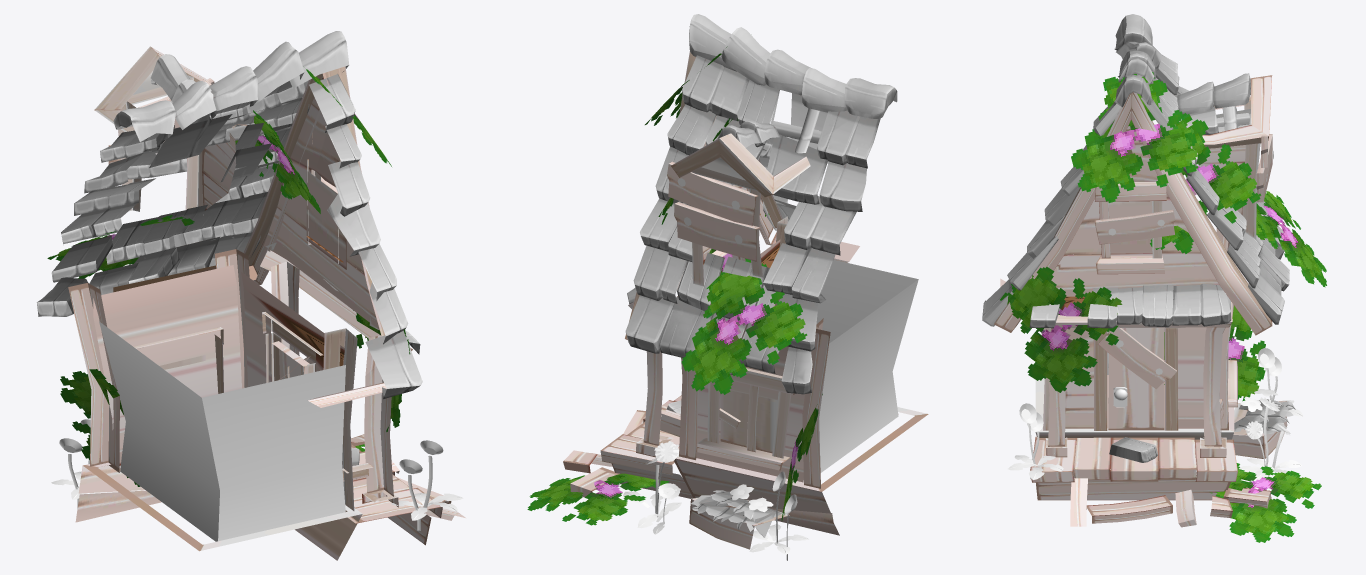
The model's file is HouseVillage1Broken.fbx.
3 renders of one model, left to right at view 1: azimuth 30°, elevation 25°; view 2: azimuth 150°, elevation 25°; view 3: azimuth 270°, elevation 25°, orthographic. The views are drawn at different scales.
Parts seen in each view (by area): view 1: GenericFarmerHouse_RunDown, FarmerHouseSideRoof_worndown001, FarmerHouseRoof_worndown001, RoofWindow_worndown001, foliage1 (4), foliage1 (3), FarmerHouseSmallRoofs004, foliage1 (2), FarmerHouseDoor_worndown001, FarmerHouseStairs_worndown001, foliage1 (6); view 2: GenericFarmerHouse_RunDown, FarmerHouseSideRoof_worndown001, RoofWindow_worndown001, foliage1 (2), FarmerHouseRoof_worndown001, foliage1 (7), FarmerHouseStairs_worndown001, FarmerHouseSmallRoofs004, foliage1 (3); view 3: GenericFarmerHouse_RunDown, FarmerHouseSideRoof_worndown001, FarmerHouseSmallRoofs004, foliage1 (5), foliage1 (6), RoofWindow_worndown001, FarmerHouseStairs_worndown001, FarmerHouseDoor_worndown001, foliage1 (7), foliage1 (4), FarmerHouseRoof_worndown001, foliage1 (2) (+1 smaller).
Boxes of the visible parts, left/top/right/bottom form: GenericFarmerHouse_RunDown: left=68, top=66, right=442, bottom=560; FarmerHouseSideRoof_worndown001: left=36, top=74, right=422, bottom=399; FarmerHouseRoof_worndown001: left=113, top=31, right=349, bottom=141; RoofWindow_worndown001: left=94, top=46, right=247, bottom=215; foliage1 (4): left=235, top=110, right=320, bottom=213; foliage1 (3): left=60, top=369, right=140, bottom=486; FarmerHouseSmallRoofs004: left=150, top=54, right=420, bottom=465; foliage1 (2): left=47, top=215, right=194, bottom=278; FarmerHouseDoor_worndown001: left=272, top=341, right=309, bottom=379; FarmerHouseStairs_worndown001: left=351, top=434, right=465, bottom=520; foliage1 (6): left=353, top=310, right=410, bottom=431; GenericFarmerHouse_RunDown: left=600, top=51, right=928, bottom=535; FarmerHouseSideRoof_worndown001: left=625, top=55, right=880, bottom=394; RoofWindow_worndown001: left=667, top=133, right=810, bottom=549; foliage1 (2): left=681, top=258, right=807, bottom=394; FarmerHouseRoof_worndown001: left=689, top=14, right=897, bottom=118; foliage1 (7): left=527, top=473, right=669, bottom=525; FarmerHouseStairs_worndown001: left=563, top=410, right=645, bottom=497; FarmerHouseSmallRoofs004: left=627, top=120, right=779, bottom=414; foliage1 (3): left=781, top=394, right=822, bottom=520; GenericFarmerHouse_RunDown: left=994, top=92, right=1272, bottom=500; FarmerHouseSideRoof_worndown001: left=982, top=46, right=1289, bottom=326; FarmerHouseSmallRoofs004: left=1029, top=73, right=1251, bottom=462; foliage1 (5): left=1071, top=72, right=1198, bottom=202; foliage1 (6): left=1000, top=267, right=1122, bottom=392; RoofWindow_worndown001: left=1200, top=75, right=1295, bottom=458; FarmerHouseStairs_worndown001: left=1070, top=478, right=1271, bottom=527; FarmerHouseDoor_worndown001: left=1108, top=328, right=1164, bottom=430; foliage1 (7): left=1210, top=463, right=1321, bottom=542; foliage1 (4): left=1150, top=113, right=1261, bottom=253; FarmerHouseRoof_worndown001: left=1114, top=14, right=1160, bottom=107; foliage1 (2): left=1256, top=191, right=1326, bottom=287.
Size of what is drawn, in the model's own units: 3.98 by 5.33 by 4.36.
